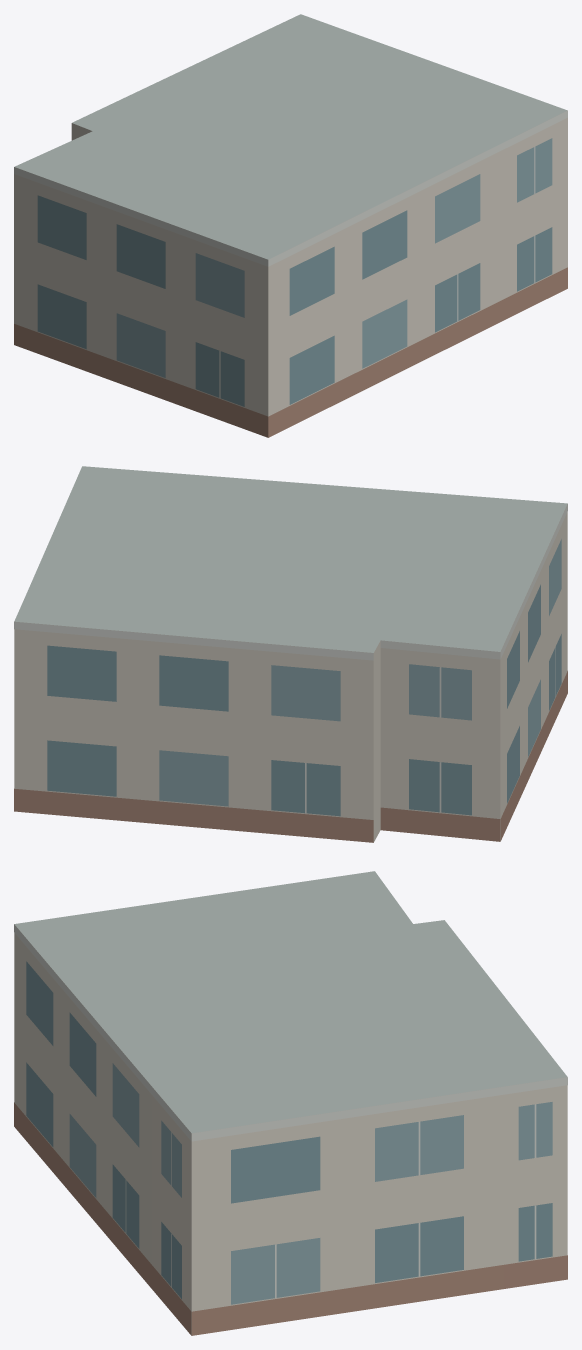
The model's file is survey-upis-32931427.glb.
3 renders of one model, top to bottom at view 1: azimuth 30°, elevation 25°; view 2: azimuth 150°, elevation 25°; view 3: azimuth 270°, elevation 25°, orthographic. The views are drawn at different scales.
Visible parts, largest first — view 1: survey-upis-32931427.tmp; view 2: survey-upis-32931427.tmp; view 3: survey-upis-32931427.tmp.
Part boxes in pixels (box(x1,y1,x2,y2)): survey-upis-32931427.tmp: box(14, 14, 567, 437); survey-upis-32931427.tmp: box(14, 466, 567, 842); survey-upis-32931427.tmp: box(14, 871, 567, 1335).
Size of the model in its own units: 16.97 by 6.1 by 15.13.
